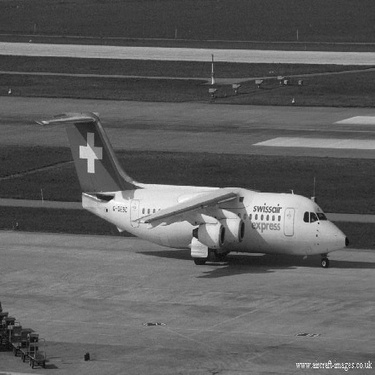airplane: (20, 97, 359, 277)
